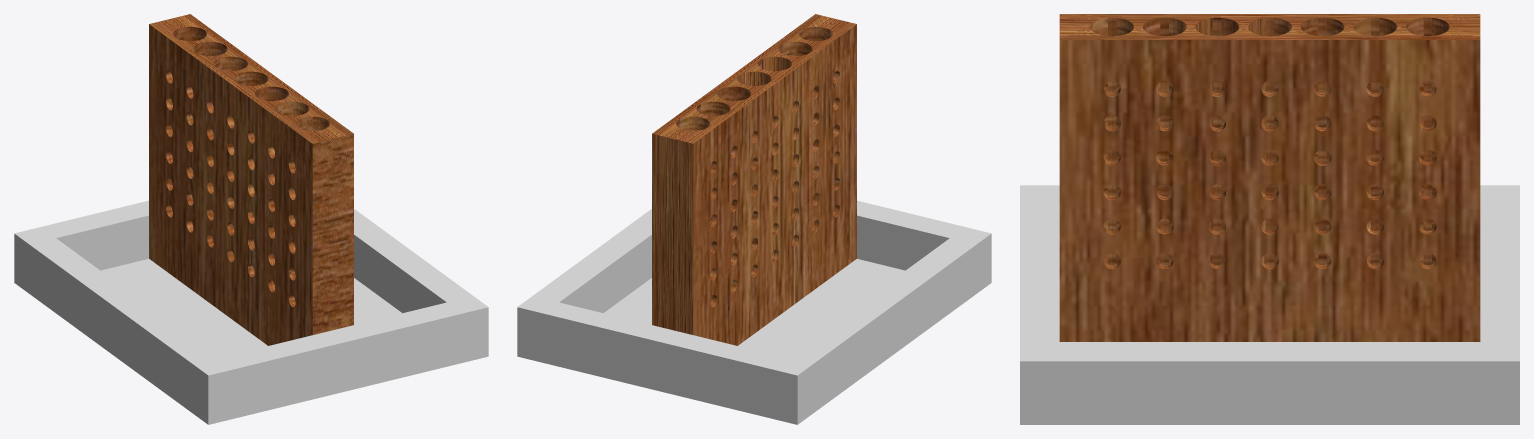
Rendered from connect4_with_base.dae.
3 renders of one model, left to right at view 1: azimuth 30°, elevation 25°; view 2: azimuth 150°, elevation 25°; view 3: azimuth 270°, elevation 25°, orthographic. The views are drawn at different scales.
Visible parts, largest first — view 1: Cube, Base; view 2: Cube, Base; view 3: Cube, Base.
Boxes of the visible parts, <box> form: Cube: <box>149,14,353,345</box>; Base: <box>14,200,488,424</box>; Cube: <box>652,14,856,345</box>; Base: <box>517,200,991,424</box>; Cube: <box>1059,14,1480,341</box>; Base: <box>1020,185,1519,424</box>.
Size of the model in its own units: 0.1508 by 0.181 by 0.1238.
